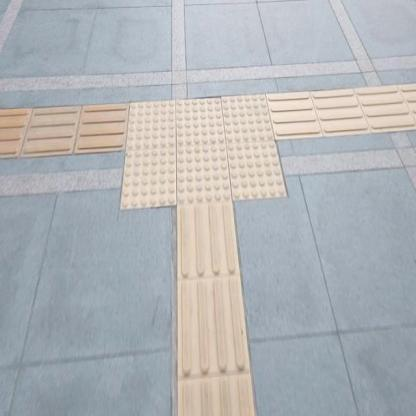podotacti: (96, 78, 303, 229), (174, 206, 259, 415), (276, 83, 416, 141), (0, 102, 129, 156)
